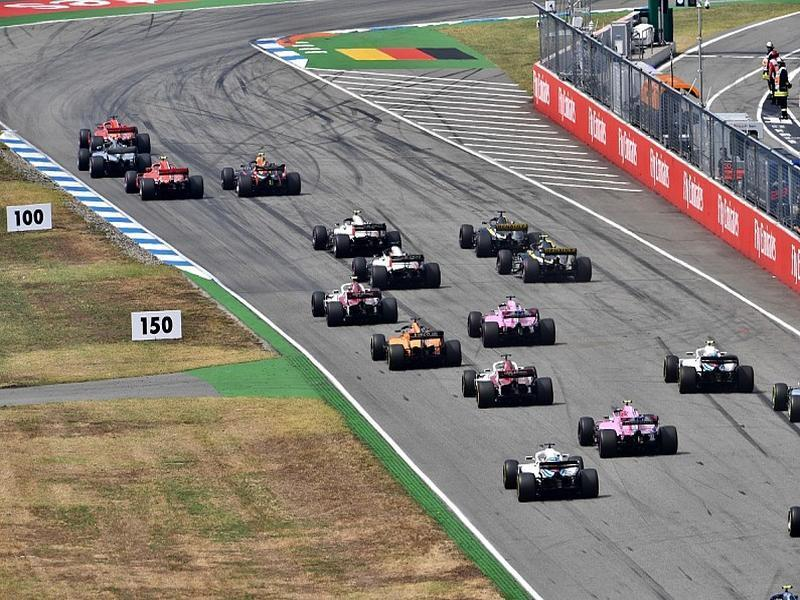f1: (498, 230, 617, 299), (570, 406, 685, 468), (499, 439, 600, 509), (661, 335, 763, 401), (467, 290, 561, 347), (463, 358, 560, 413), (377, 318, 460, 375), (312, 206, 403, 256), (221, 150, 305, 200), (123, 159, 208, 206), (314, 280, 396, 327), (459, 206, 544, 249), (353, 249, 446, 287)
